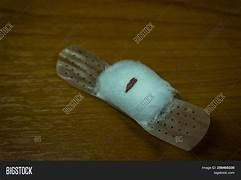Bandage: (56, 47, 209, 149)
cotton: (96, 60, 175, 124)
